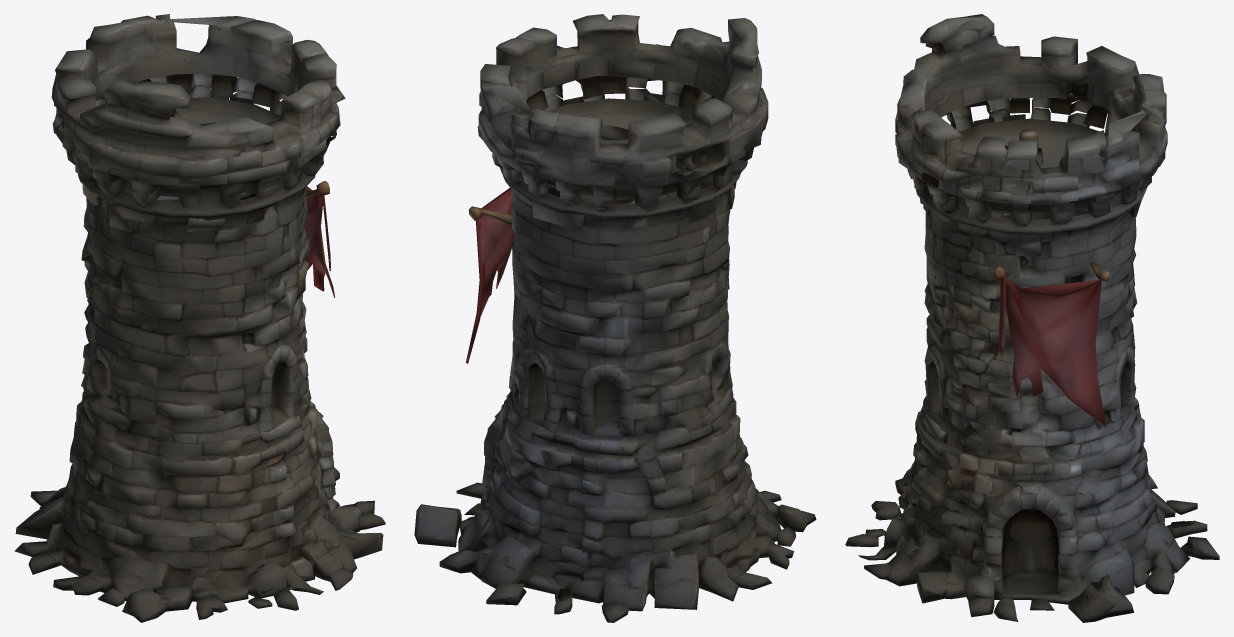
The picture shows the model from 3 angles, left to right: view 1: azimuth 30°, elevation 25°; view 2: azimuth 150°, elevation 25°; view 3: azimuth 270°, elevation 25°; orthographic projection. The views are drawn at different scales.
Parts seen in each view (by area): view 1: tripo_node_3bb45e04-a897-48b8-bbc0-209907a85d2e; view 2: tripo_node_3bb45e04-a897-48b8-bbc0-209907a85d2e; view 3: tripo_node_3bb45e04-a897-48b8-bbc0-209907a85d2e.
Part boxes in pixels (x1,y1,x2,y2): tripo_node_3bb45e04-a897-48b8-bbc0-209907a85d2e: (14, 14, 385, 622); tripo_node_3bb45e04-a897-48b8-bbc0-209907a85d2e: (414, 14, 816, 622); tripo_node_3bb45e04-a897-48b8-bbc0-209907a85d2e: (845, 14, 1219, 622).
Size of the model in its own units: 0.683 by 1 by 0.7025.
Materials: 1 (1 with a texture image).
